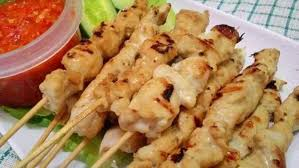sate: (12, 2, 299, 167)
